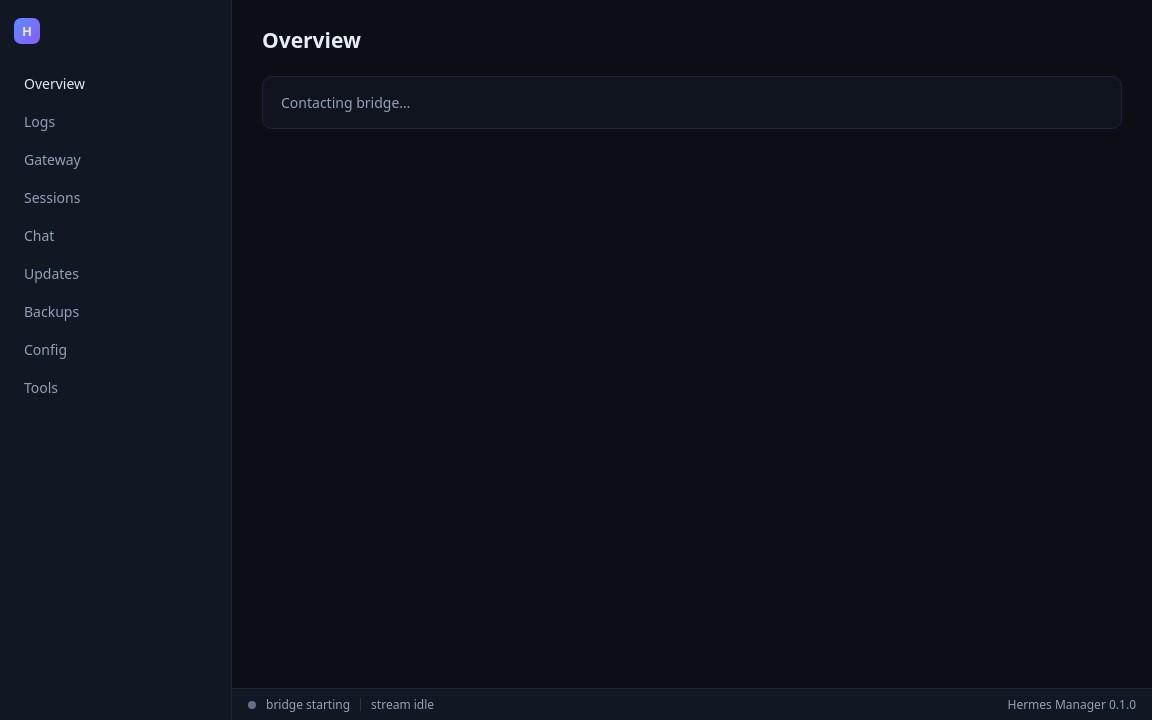
it: App shell › browses sessions and opens a transcript
Click the button with test id "nav-sessions" at (116, 198), box [14,180,217,215]
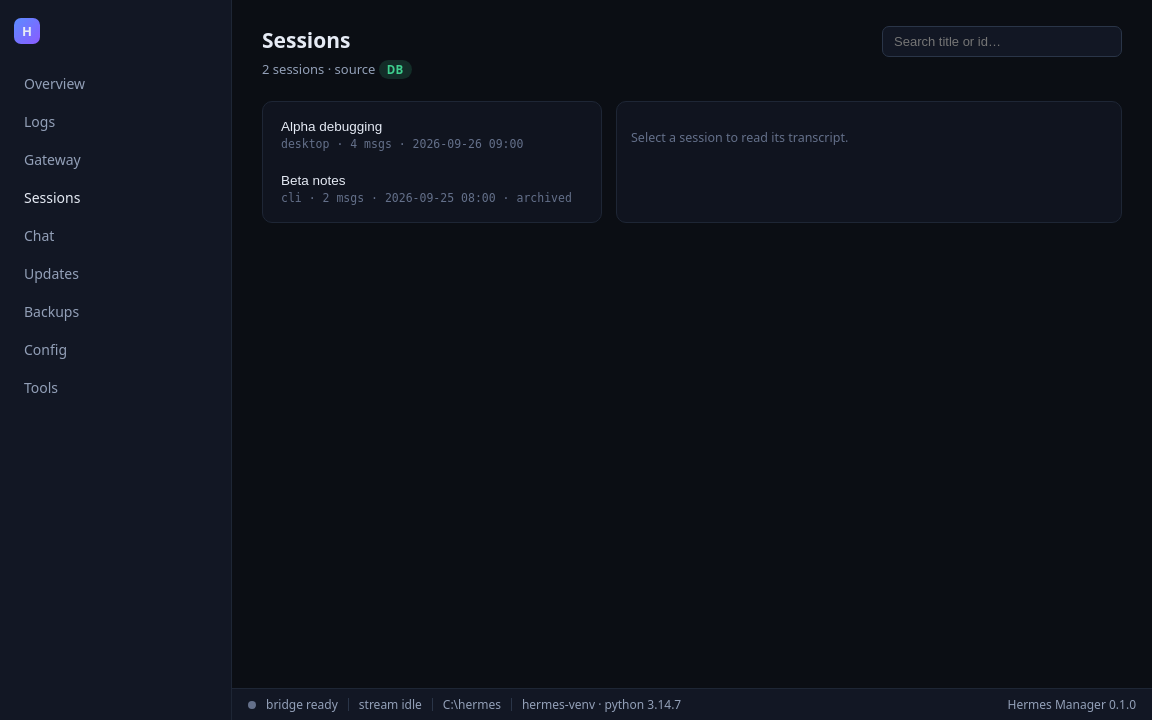
Now the element with test id "sessions-list" is shown, box [262,101,602,223]
Now the text "Alpha debugging" is shown, box [281,119,382,134]
Now the text "Beta notes" is shown, box [281,173,346,188]
Click the button with test id "session-row" that starts with "Alpha debugging" at (432, 135), box [271,110,593,160]
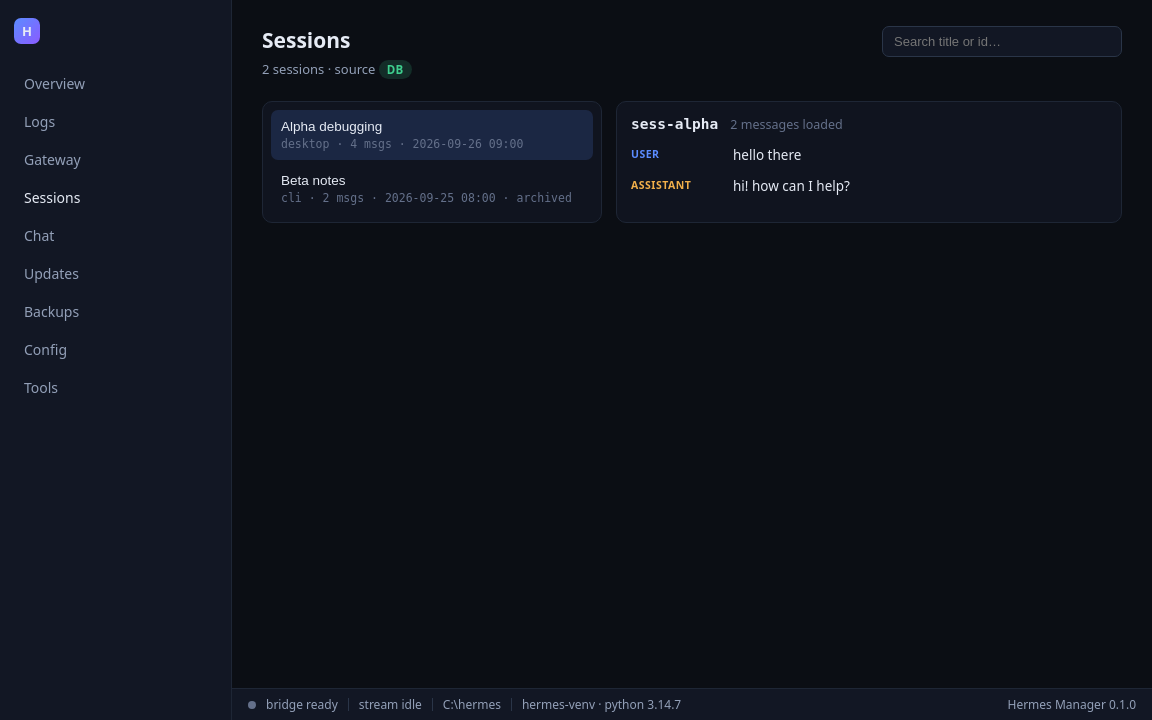
Now the element with test id "messages-panel" is shown, box [616,101,1122,223]
Now the text "hello there" is shown, box [733,146,801,164]
Now the text "hi! how can I help?" is shown, box [733,177,850,195]
